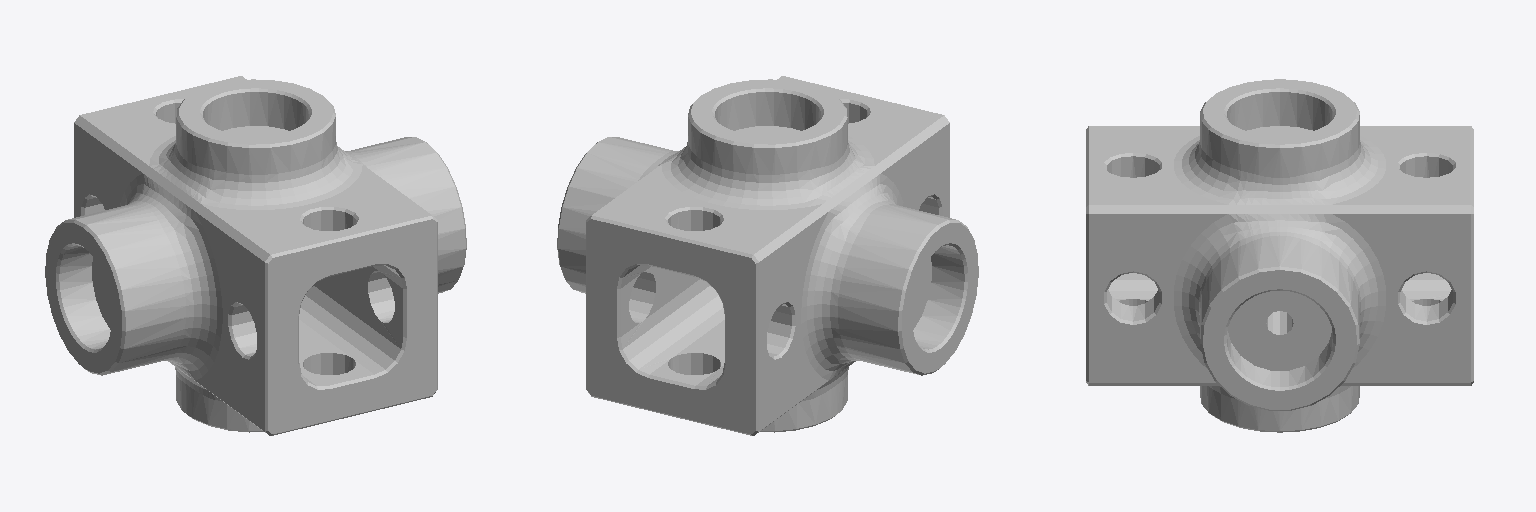
Rendered from right_foot_pitch_link.obj.
The picture shows the model from 3 angles: view 1: azimuth 30°, elevation 25°; view 2: azimuth 150°, elevation 25°; view 3: azimuth 270°, elevation 25°; orthographic projection.
Parts seen in each view (by area): view 1: right_foot_pitch_link; view 2: right_foot_pitch_link; view 3: right_foot_pitch_link.
Boxes of the visible parts, x1=… form: right_foot_pitch_link: x1=45, y1=76, x2=466, y2=435; right_foot_pitch_link: x1=557, y1=76, x2=978, y2=435; right_foot_pitch_link: x1=1086, y1=79, x2=1473, y2=432.
Bounding box in the file's own units: 0.0298 × 0.0238 × 0.029.